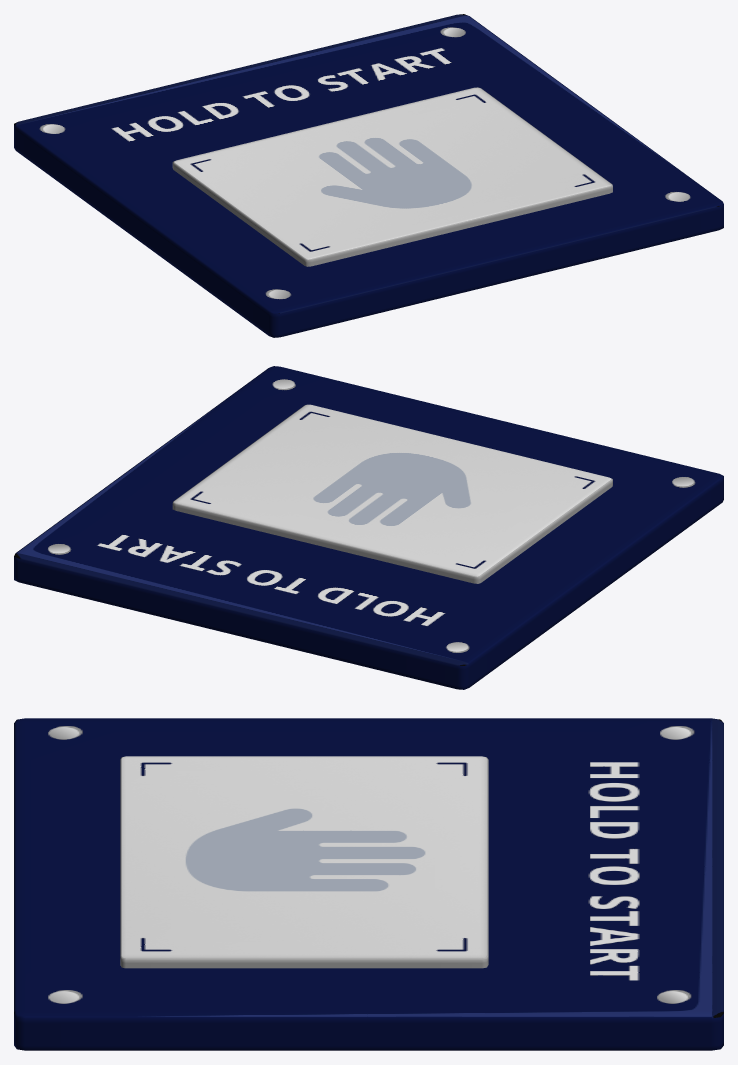
File: doorBtn.fbx
3 views of the same model, one above another, from view 1: azimuth 30°, elevation 25°; view 2: azimuth 150°, elevation 25°; view 3: azimuth 270°, elevation 25° (orthographic). The views are drawn at different scales.
Visible parts, largest first — view 1: btnBase, btn; view 2: btnBase, btn; view 3: btnBase, btn.
Boxes of the visible parts, box(x1,y1,x2,y2) form: btnBase: box(14, 14, 723, 337); btn: box(172, 87, 612, 266); btnBase: box(14, 366, 723, 689); btn: box(172, 404, 612, 583); btnBase: box(14, 718, 723, 1050); btn: box(120, 756, 488, 968).
Size of the model in its own units: 2.43 by 0.1701 by 2.43.
